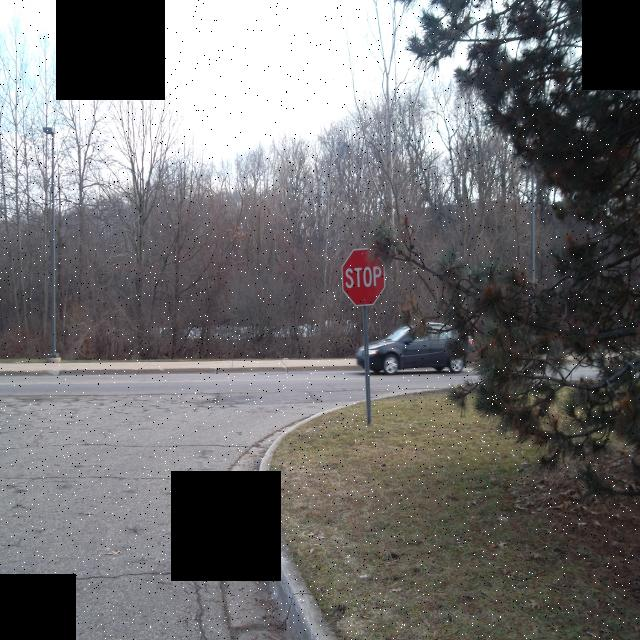stop: (342, 247, 386, 308)
